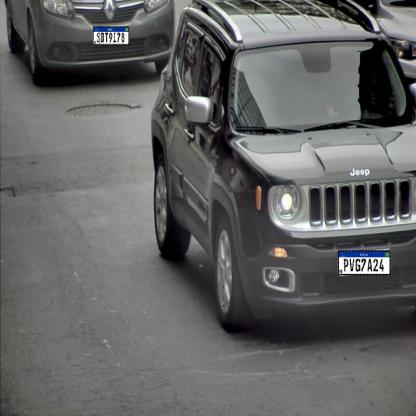PlacaM: (338, 250, 391, 275), (93, 26, 129, 45)
